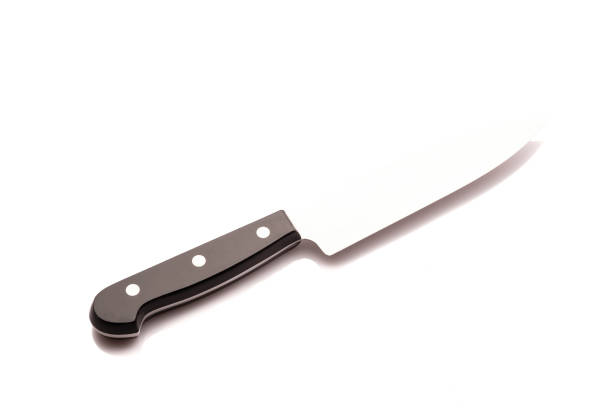knife: (88, 121, 545, 342)
